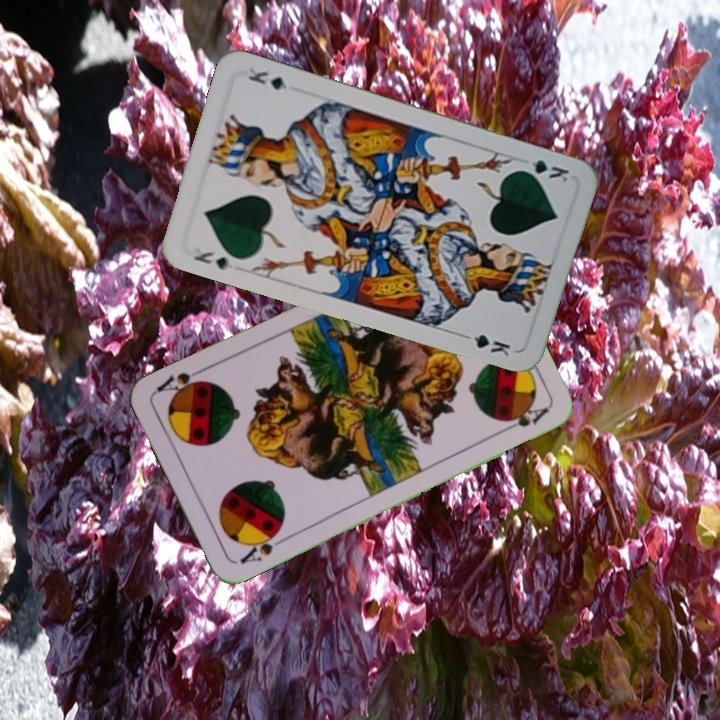GK: (514, 155, 572, 186), (190, 246, 236, 272)
SA: (236, 525, 284, 567)
